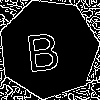B: (23, 23, 62, 72)
